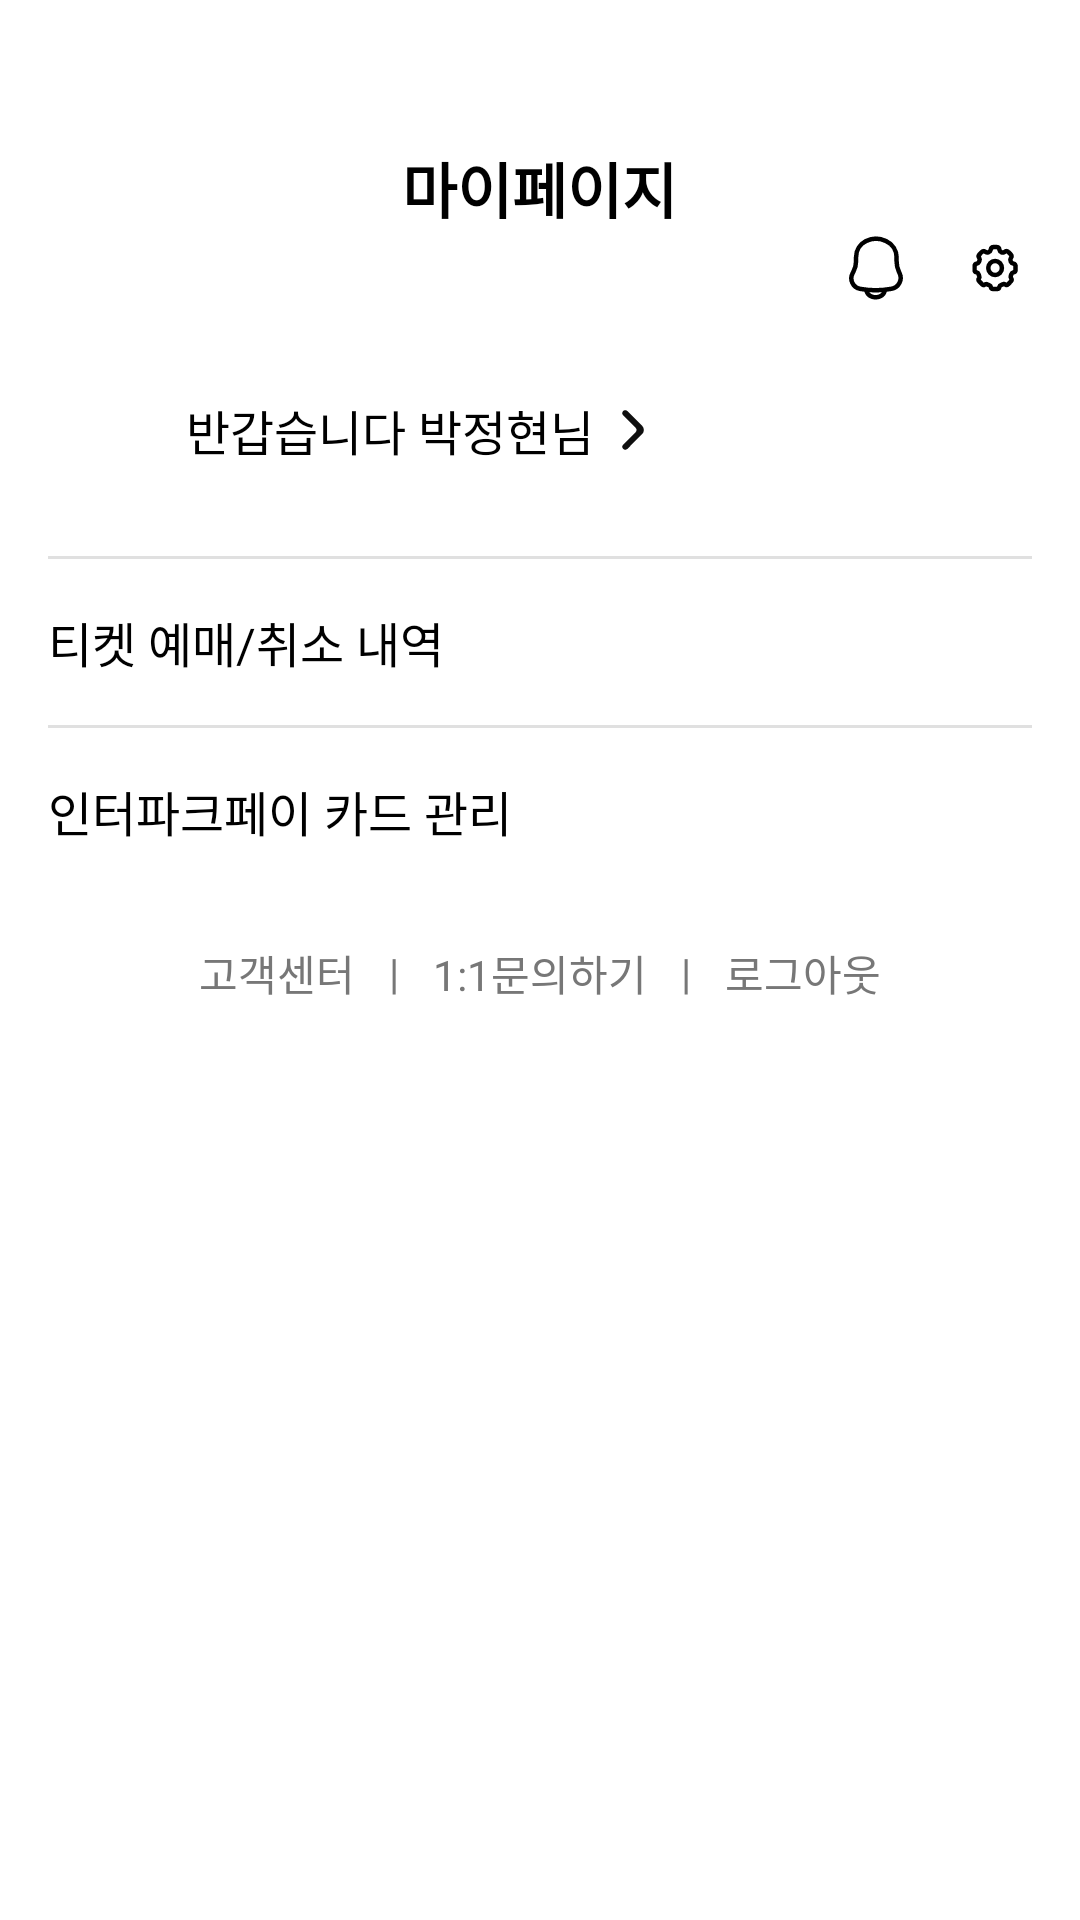

Locate icon controls on the screen. Image size 1080px×1920px, boxes as {"left": x1, "top": y1, "right": x2, "bottom": y2}.
chevron right: {"left": 622, "top": 410, "right": 644, "bottom": 450}
설정 아이콘: {"left": 972, "top": 244, "right": 1018, "bottom": 292}
알림 아이콘: {"left": 849, "top": 236, "right": 903, "bottom": 300}
